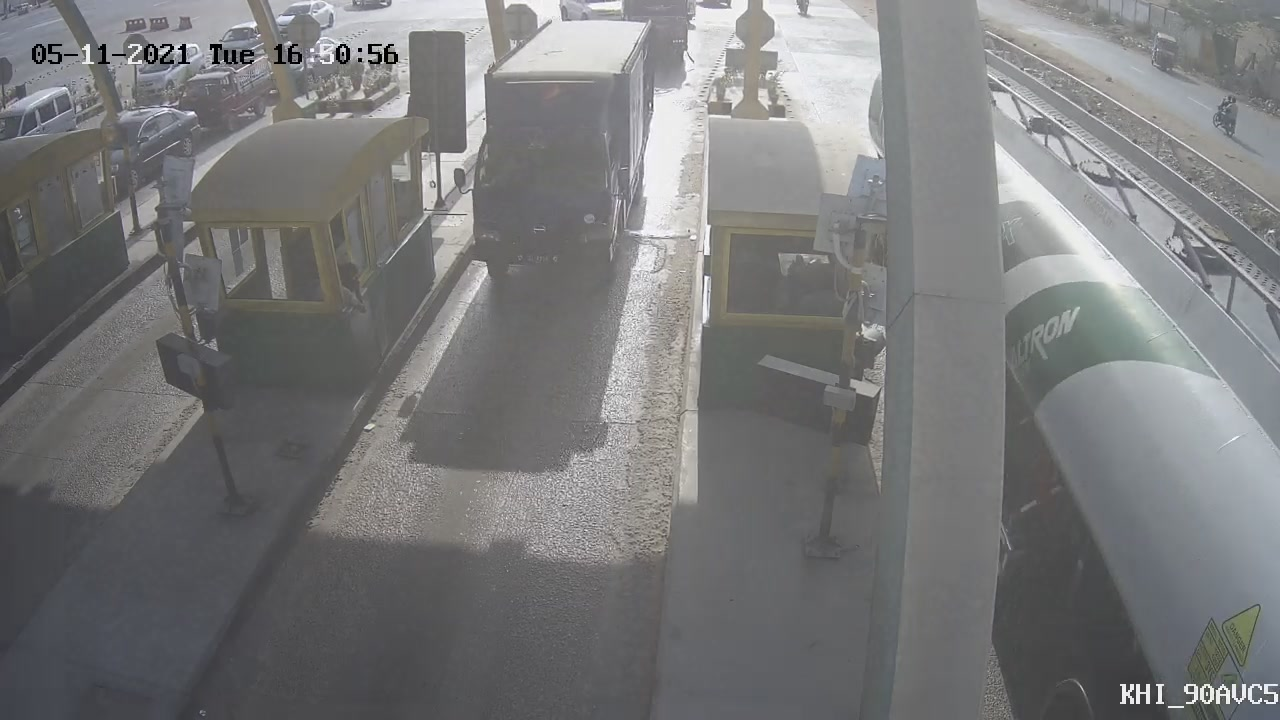F5: (446, 8, 674, 312)
